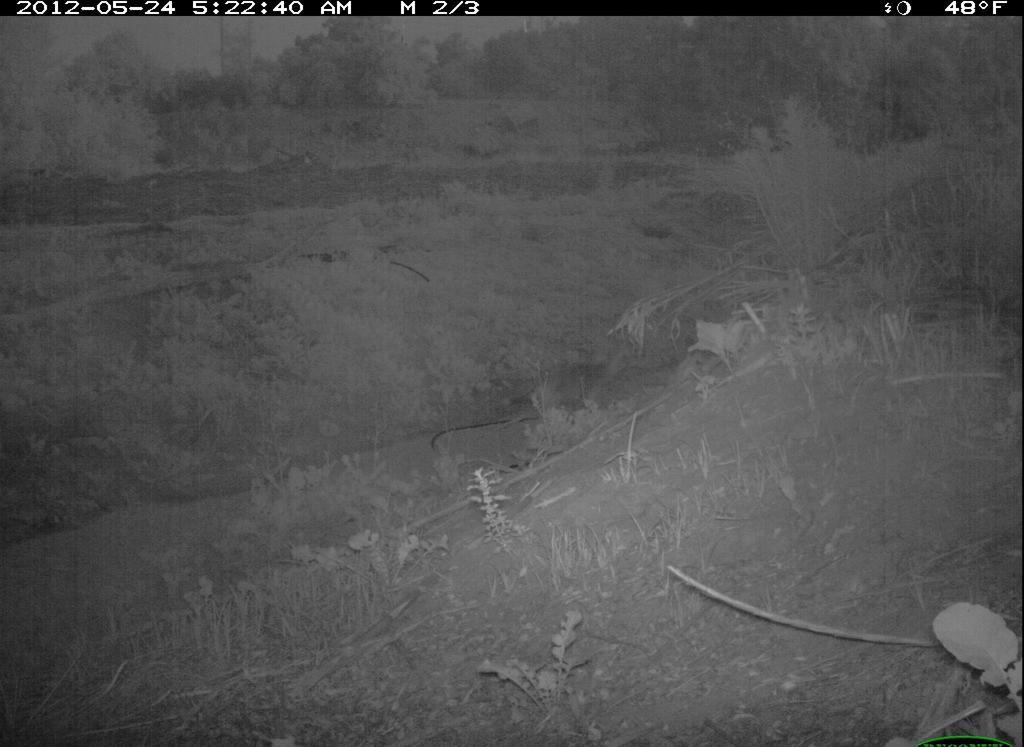coyote: (493, 346, 643, 437)
